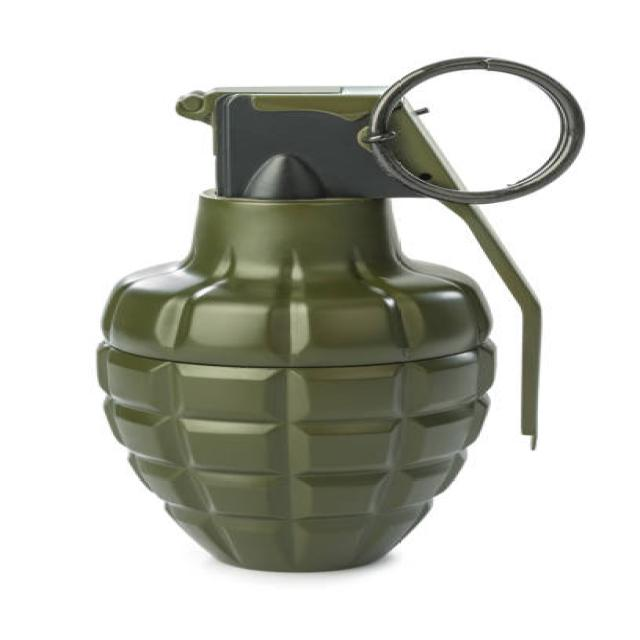grenade: (77, 45, 597, 585)
